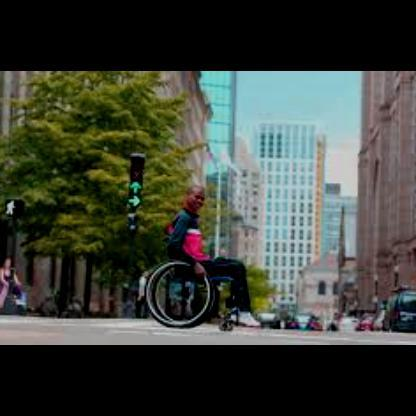wheelchair: (144, 185, 261, 331)
